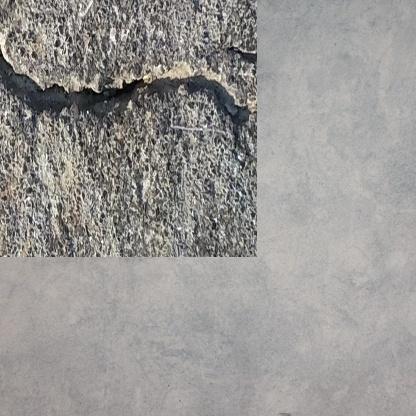Cracks: (0, 23, 237, 117), (208, 41, 237, 61)
